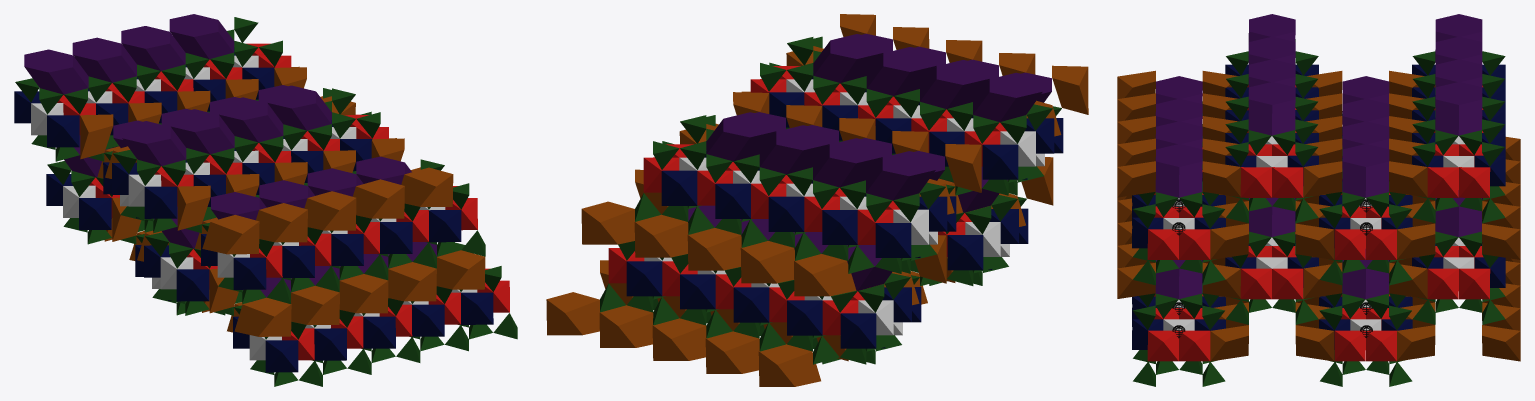
File: Clinoanfibolio.obj
3 views of the same model, side by side, from view 1: azimuth 30°, elevation 25°; view 2: azimuth 150°, elevation 25°; view 3: azimuth 270°, elevation 25° (orthographic). The views are drawn at different scales.
Parts seen in each view (by area): view 1: Clinoanfibolio_full_Cube.013_Site_M4, Clinoanfibolio_full_Cube.013_A_site, Clinoanfibolio_full_Cube.013_Coordenacao_8, Clinoanfibolio_full_Cube.013_tetraedros, Clinoanfibolio_full_Cube.013_Coordenacao6, Clinoanfibolio_full_Cube.013_Site_M3; view 2: Clinoanfibolio_full_Cube.013_Site_M4, Clinoanfibolio_full_Cube.013_tetraedros, Clinoanfibolio_full_Cube.013_A_site, Clinoanfibolio_full_Cube.013_Coordenacao_8, Clinoanfibolio_full_Cube.013_Coordenacao6, Clinoanfibolio_full_Cube.013_Site_M3; view 3: Clinoanfibolio_full_Cube.013_Site_M4, Clinoanfibolio_full_Cube.013_A_site, Clinoanfibolio_full_Cube.013_tetraedros, Clinoanfibolio_full_Cube.013_Coordenacao6, Clinoanfibolio_full_Cube.013_Coordenacao_8, Clinoanfibolio_full_Cube.013_Site_M3, Clinoanfibolio_full_Cube.013_Hidroxila.
Part boxes in pixels (<box>): Clinoanfibolio_full_Cube.013_Site_M4: <box>80,66,485,336</box>; Clinoanfibolio_full_Cube.013_A_site: <box>24,14,436,297</box>; Clinoanfibolio_full_Cube.013_Coordenacao_8: <box>14,47,493,372</box>; Clinoanfibolio_full_Cube.013_tetraedros: <box>15,17,517,386</box>; Clinoanfibolio_full_Cube.013_Coordenacao6: <box>57,43,509,360</box>; Clinoanfibolio_full_Cube.013_Site_M3: <box>31,55,477,360</box>; Clinoanfibolio_full_Cube.013_Site_M4: <box>546,14,1088,386</box>; Clinoanfibolio_full_Cube.013_tetraedros: <box>600,36,1061,364</box>; Clinoanfibolio_full_Cube.013_A_site: <box>688,33,1051,290</box>; Clinoanfibolio_full_Cube.013_Coordenacao_8: <box>626,72,1063,348</box>; Clinoanfibolio_full_Cube.013_Coordenacao6: <box>608,66,1006,335</box>; Clinoanfibolio_full_Cube.013_Site_M3: <box>644,79,1044,335</box>; Clinoanfibolio_full_Cube.013_Site_M4: <box>1117,70,1520,361</box>; Clinoanfibolio_full_Cube.013_A_site: <box>1155,14,1482,299</box>; Clinoanfibolio_full_Cube.013_tetraedros: <box>1132,39,1505,386</box>; Clinoanfibolio_full_Cube.013_Coordenacao6: <box>1147,85,1490,361</box>; Clinoanfibolio_full_Cube.013_Coordenacao_8: <box>1132,64,1505,349</box>; Clinoanfibolio_full_Cube.013_Site_M3: <box>1163,136,1474,330</box>; Clinoanfibolio_full_Cube.013_Hidroxila: <box>1172,199,1372,338</box>.
Size of the model in its own units: 2.25 by 1.45 by 2.45.
